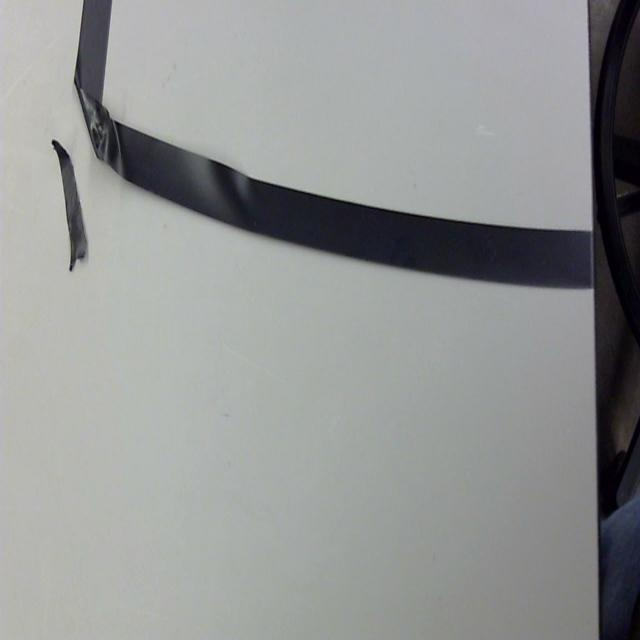tape: (58, 0, 610, 313), (39, 133, 112, 300)
